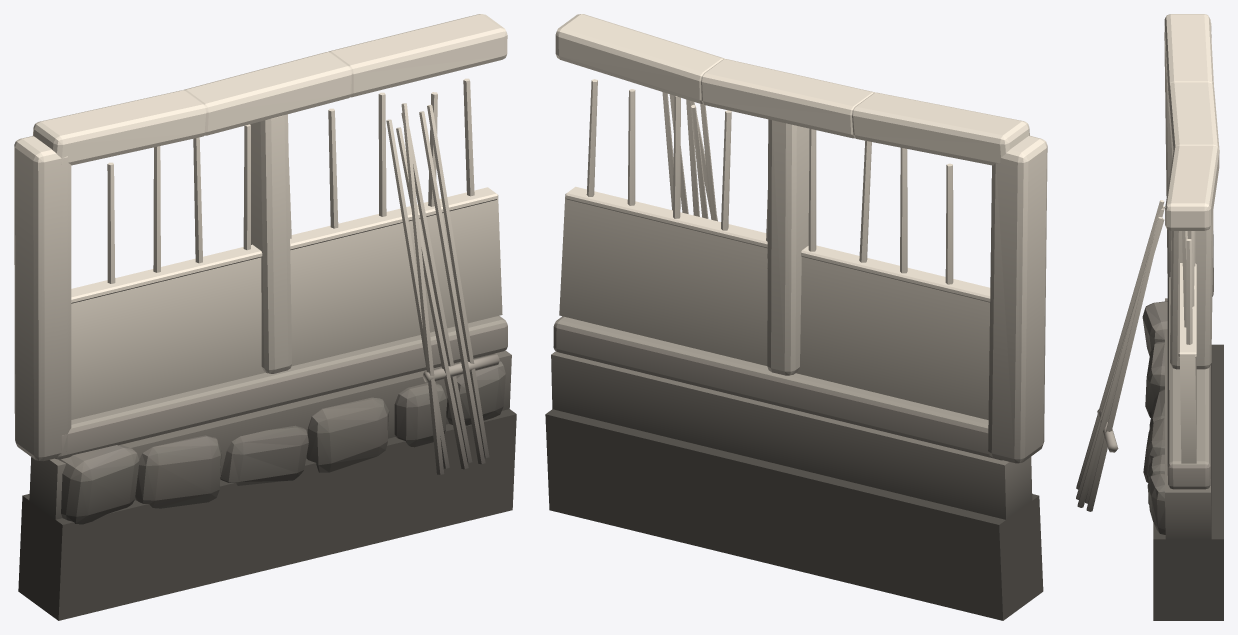
The model's file is SM_VK_Wall_Wattle_Frame.fbx.
3 views of the same model, side by side, from view 1: azimuth 30°, elevation 25°; view 2: azimuth 150°, elevation 25°; view 3: azimuth 270°, elevation 25° (orthographic). The views are drawn at different scales.
Parts seen in each view (by area): view 1: SM_VK_Wall_Wattle_Frame.001; view 2: SM_VK_Wall_Wattle_Frame.001; view 3: SM_VK_Wall_Wattle_Frame.001.
Boxes of the visible parts, x1,y1,x2,y2 form: SM_VK_Wall_Wattle_Frame.001: (14, 14, 516, 620); SM_VK_Wall_Wattle_Frame.001: (545, 14, 1047, 620); SM_VK_Wall_Wattle_Frame.001: (1076, 14, 1223, 620).
Bounding box in the file's own units: 3.13 × 3 × 0.9644.
